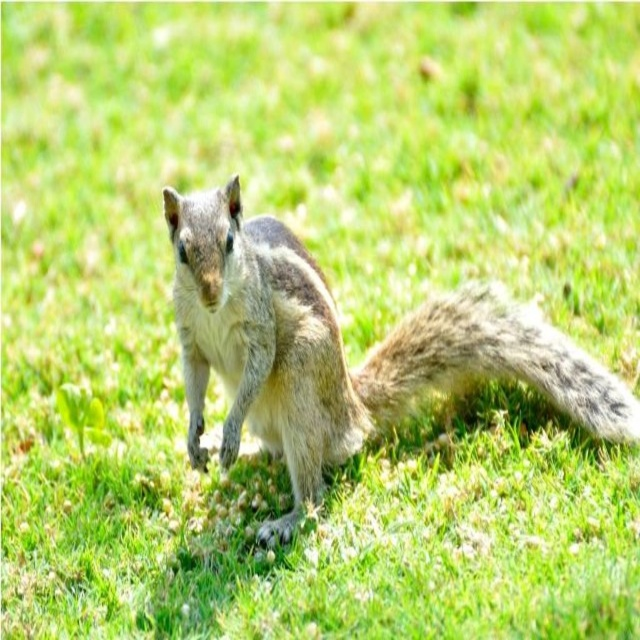Squirrel: (162, 172, 640, 550)
